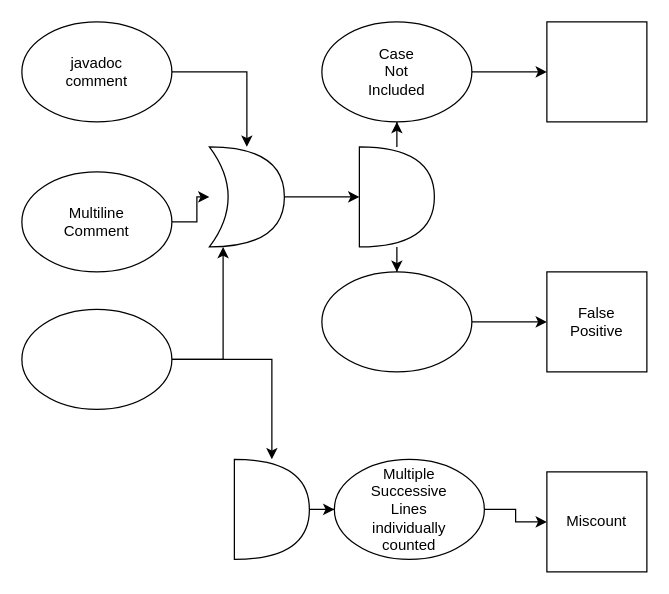
This 669x594 diagram has some shape labels left out. Each missing label, with the centre of its shape:
Counted In String: [396,321]
Failure to Detect Comment: [596,71]
single line comment: [96,358]
